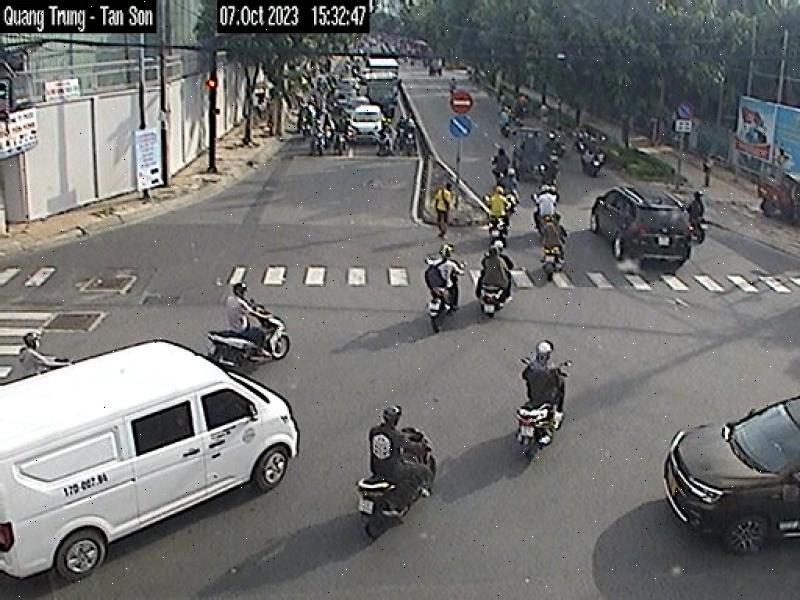car: (0, 339, 304, 596), (647, 370, 800, 569), (589, 172, 696, 293), (340, 98, 390, 163)
motorcycle: (470, 359, 574, 484), (349, 424, 438, 542), (195, 308, 289, 381)
